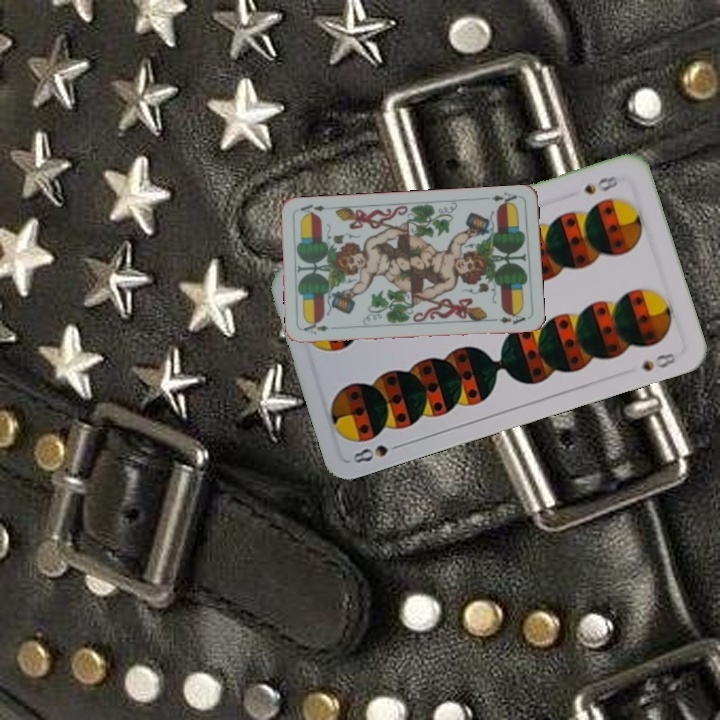EA: (481, 188, 519, 209), (300, 320, 340, 336)
S8: (348, 439, 407, 466), (580, 172, 622, 197)
